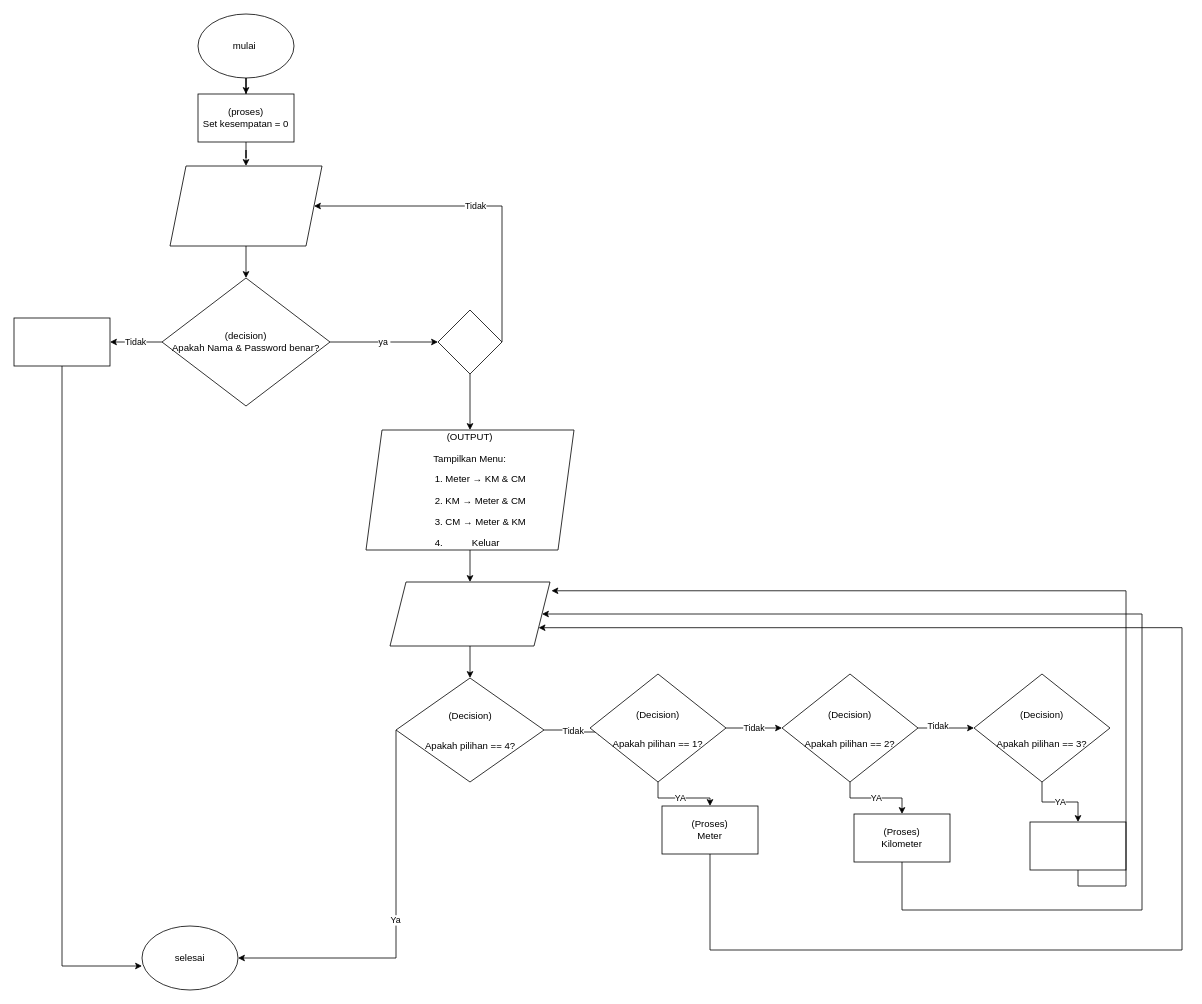
Some shapes in this 1202 by 1004 pixel diagram are drawn without their labels. The shapes that lost their labels are listed below. From the top down, each one's box as (x1, y1, x2, y2) in pixels, then its label:
(169, 165, 322, 246): (input) Masukkan Nama Masukkan Password (3 digit terakhir NIM)
(13, 317, 110, 366): (proses) kesempatan = kesempatan + 1
(437, 309, 502, 374): Apakah kesempatan == 3?
(389, 581, 550, 646): (INPUT) Masukkan pilihan
(1029, 821, 1126, 870): (Proses) Centimeter
